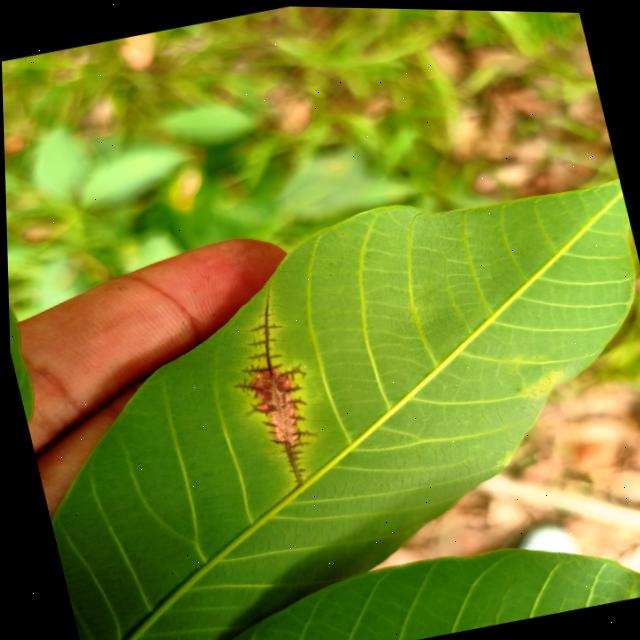Corynespora: (208, 282, 331, 495)
